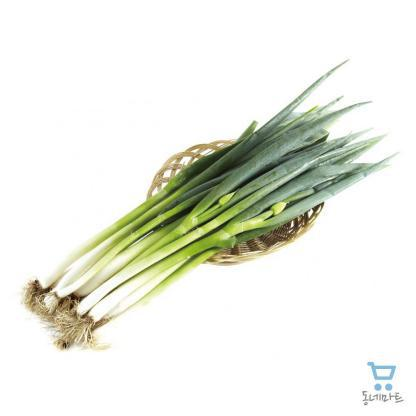green onion: (25, 79, 381, 356)
